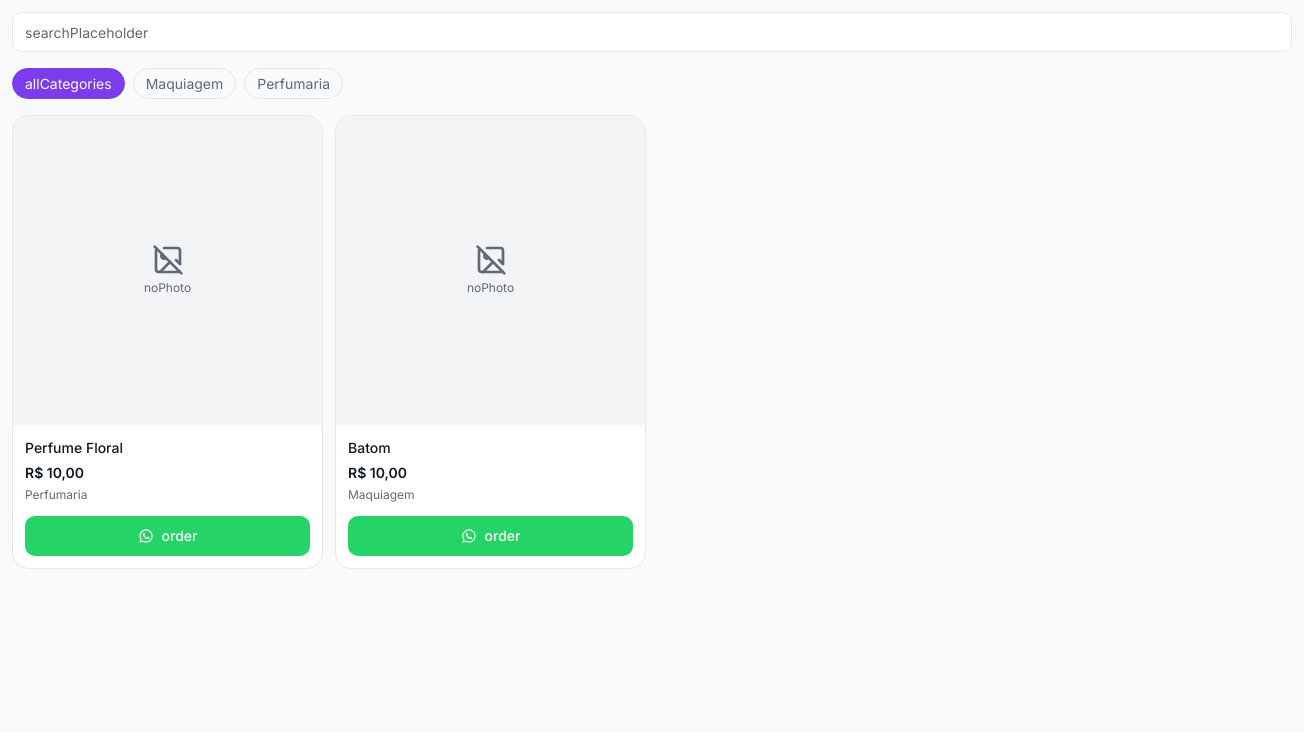
it: VitrineExplorer › filtra pela busca (acento-insensível)
Check: the text "Perfume Floral" is shown, box [25,439,123,456]
Type "perfume" into the search field at (652, 32), box [12,12,1292,52]
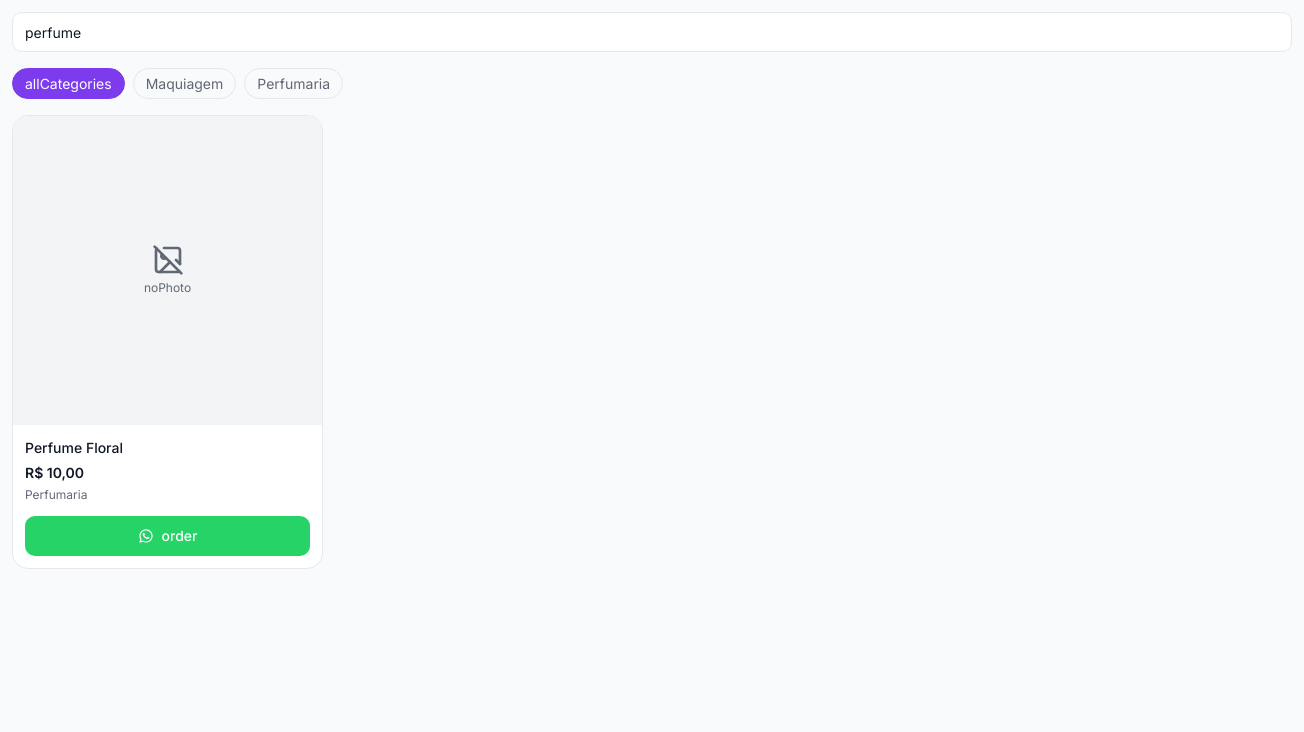
Check: the text "Perfume Floral" is shown, box [25,439,123,456]
Check: the button "Batom" is gone
